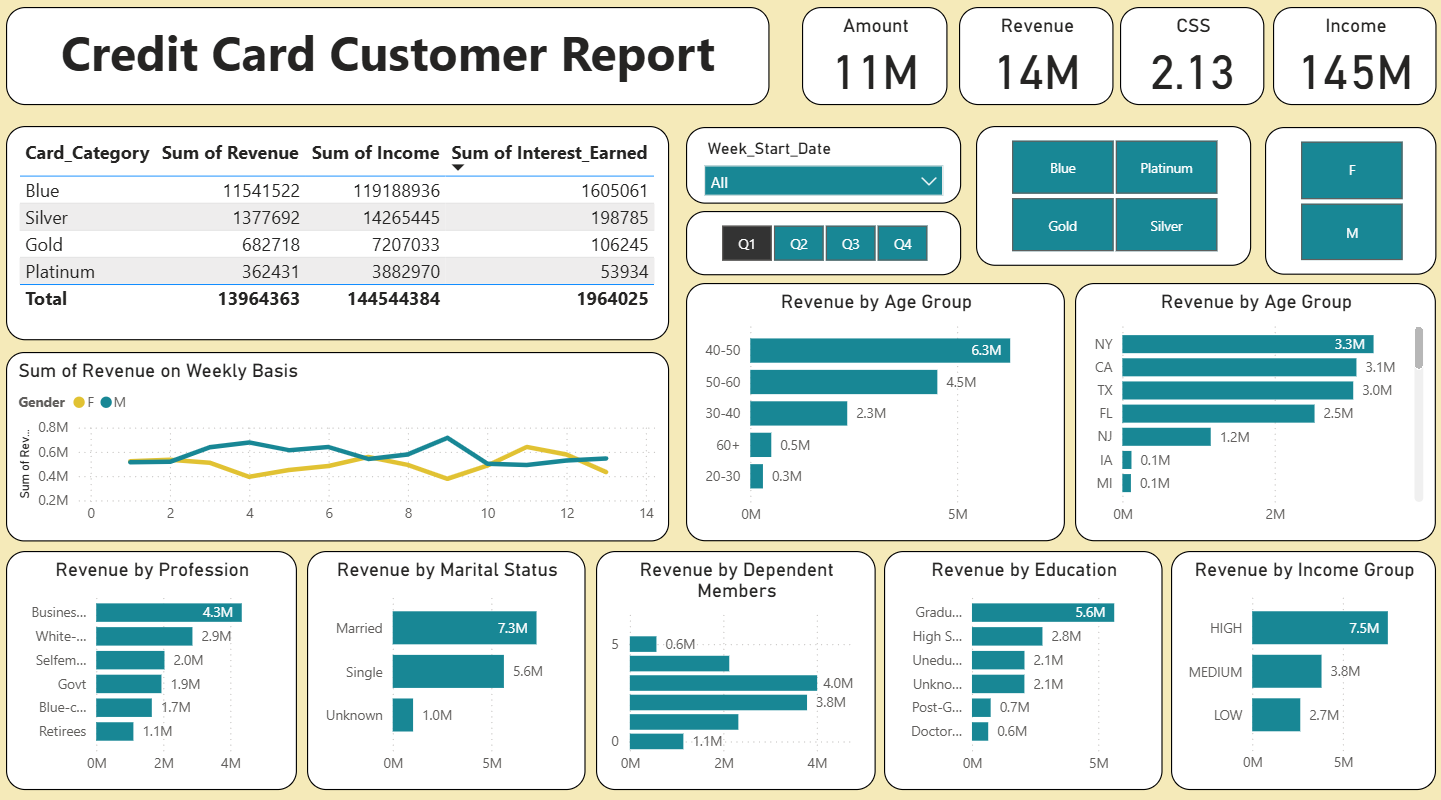

What the dashboard file says about the page in this screenshot:
{"tool":"powerbi","page":{"name":"cc_customer_report","canvas":[1280,720],"ordinal":1},"visuals":[{"type":"textbox","box":[8,13.4,677.4,87.4],"z":0},{"type":"clusteredBarChart","title":"Revenue by Age Group ","fields":{"Y":["Sum(credit_card.Revenue)"],"Category":["customer (2).AgeGroup"]},"box":[610.6,257.6,336,229.1],"z":1000},{"type":"tableEx","fields":{"Values":["credit_card.Card_Category","Sum(credit_card.Revenue)","Sum(customer (2).Income)","Sum(credit_card.Interest_Earned)"]},"box":[8,118.6,588.3,189.9],"z":2000},{"type":"slicer","fields":{"Values":["credit_card.Week_Start_Date"]},"box":[610.6,119.4,244.2,67.7],"z":3000},{"type":"slicer","fields":{"Values":["customer (2).Gender"]},"box":[1124,119.4,152.4,131],"z":4000},{"type":"card","title":"Revenue","fields":{"Values":["Sum(credit_card.Revenue)"]},"box":[853,13.4,137.3,87.4],"z":5000},{"type":"card","title":"Amount","fields":{"Values":["Sum(credit_card.Total_Trans_Amt)"]},"box":[714,13.4,129.2,87.4],"z":6000},{"type":"card","title":"Income ","fields":{"Values":["Sum(customer (2).Income)"]},"box":[1131.1,13.4,145.3,87.4],"z":7000},{"type":"card","title":"CSS","fields":{"Values":["Avg(customer (2).Cust_Satisfaction_Score)"]},"box":[995.7,13.4,128.4,87.4],"z":8000},{"type":"lineChart","title":"Sum of Revenue on Weekly Basis","fields":{"Y":["Sum(credit_card.Revenue)"],"Series":["customer (2).Gender"],"Category":["credit_card.Week_num_2"]},"box":[8,319.1,588.3,167.6],"z":9000},{"type":"clusteredBarChart","title":"Revenue by Profession ","fields":{"Y":["Sum(credit_card.Revenue)"],"Category":["customer (2).Customer_Job"]},"box":[8,495.6,257.6,212.1],"z":10000},{"type":"clusteredBarChart","title":"Revenue by Education ","fields":{"Y":["Sum(credit_card.Revenue)"],"Category":["customer (2).Education_Level"]},"box":[786.2,495.6,246.9,212.1],"z":11000},{"type":"clusteredBarChart","title":"Revenue by Marital Status","fields":{"Y":["Sum(credit_card.Revenue)"],"Category":["customer (2).Marital_Status"]},"box":[274.5,495.6,246.9,212.1],"z":12000},{"type":"clusteredBarChart","title":"Revenue by Age Group","fields":{"Y":["Sum(credit_card.Revenue)"],"Category":["customer (2).state_cd"]},"box":[955.5,257.6,320,229.1],"z":13000},{"type":"clusteredBarChart","title":"Revenue by Income Group","fields":{"Y":["Sum(credit_card.Revenue)"],"Category":["customer (2).IncomeGroup"]},"box":[1041,495.7,235,211.9],"z":14000},{"type":"clusteredBarChart","title":"Revenue by Dependent Members","fields":{"Y":["Sum(credit_card.Revenue)"],"Category":["customer (2).Dependent_Count"]},"box":[531.3,495.6,247.8,212.1],"z":15000},{"type":"slicer","fields":{"Values":["credit_card.Qtr"]},"box":[610.6,194.3,244.2,57],"z":16000},{"type":"slicer","fields":{"Values":["credit_card.Card_Category"]},"box":[868.1,118.8,243.8,124.1],"z":17000}]}

Visuals, with their boxes in screenshot pixels (x1, y1, x2, y2), scaled from the page's 1280x720 canvas onto the 1441x800 screenshot:
textbox: region(9, 15, 772, 112)
"Revenue by Age Group " clusteredBarChart: region(687, 286, 1066, 541)
tableEx - credit_card.Card_Category x Sum(credit_card.Revenue): region(9, 132, 671, 343)
slicer - credit_card.Week_Start_Date: region(687, 133, 962, 208)
slicer - customer (2).Gender: region(1265, 133, 1437, 278)
"Revenue" card: region(960, 15, 1115, 112)
"Amount" card: region(804, 15, 949, 112)
"Income " card: region(1273, 15, 1437, 112)
"CSS" card: region(1121, 15, 1265, 112)
"Sum of Revenue on Weekly Basis" lineChart: region(9, 355, 671, 541)
"Revenue by Profession " clusteredBarChart: region(9, 551, 299, 786)
"Revenue by Education " clusteredBarChart: region(885, 551, 1163, 786)
"Revenue by Marital Status" clusteredBarChart: region(309, 551, 587, 786)
"Revenue by Age Group" clusteredBarChart: region(1076, 286, 1436, 541)
"Revenue by Income Group" clusteredBarChart: region(1172, 551, 1436, 786)
"Revenue by Dependent Members" clusteredBarChart: region(598, 551, 877, 786)
slicer - credit_card.Qtr: region(687, 216, 962, 279)
slicer - credit_card.Card_Category: region(977, 132, 1252, 270)
